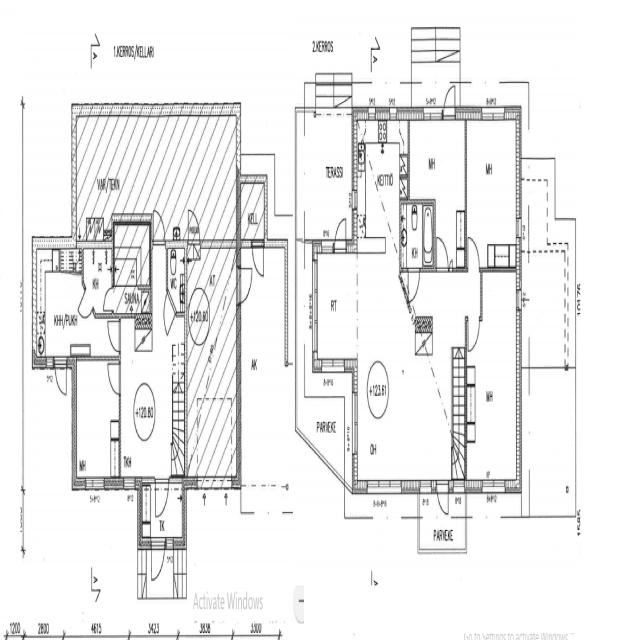door: (154, 473, 170, 519), (150, 538, 166, 583), (162, 288, 175, 339), (106, 312, 122, 352), (466, 230, 481, 272), (435, 231, 450, 272), (238, 264, 254, 302), (466, 312, 480, 354), (251, 235, 265, 277), (54, 356, 68, 396), (443, 79, 457, 118), (436, 478, 450, 517), (336, 77, 352, 111), (106, 358, 121, 394), (407, 264, 421, 301), (152, 211, 166, 247), (335, 212, 347, 246), (102, 281, 114, 312), (388, 91, 399, 116)
window: (366, 477, 400, 498), (480, 475, 508, 497), (351, 389, 359, 456), (480, 101, 506, 121), (320, 354, 346, 373), (85, 474, 106, 494), (422, 102, 443, 120), (122, 473, 136, 492), (419, 482, 433, 499), (516, 214, 522, 242)
zone: (185, 241, 238, 479), (148, 107, 239, 240), (466, 270, 520, 490), (465, 114, 521, 268), (353, 110, 406, 251), (300, 106, 354, 239), (73, 354, 120, 483), (34, 251, 84, 359), (313, 245, 356, 364), (408, 116, 465, 204), (81, 242, 113, 318), (400, 200, 432, 270), (113, 222, 149, 284), (240, 173, 266, 244)
